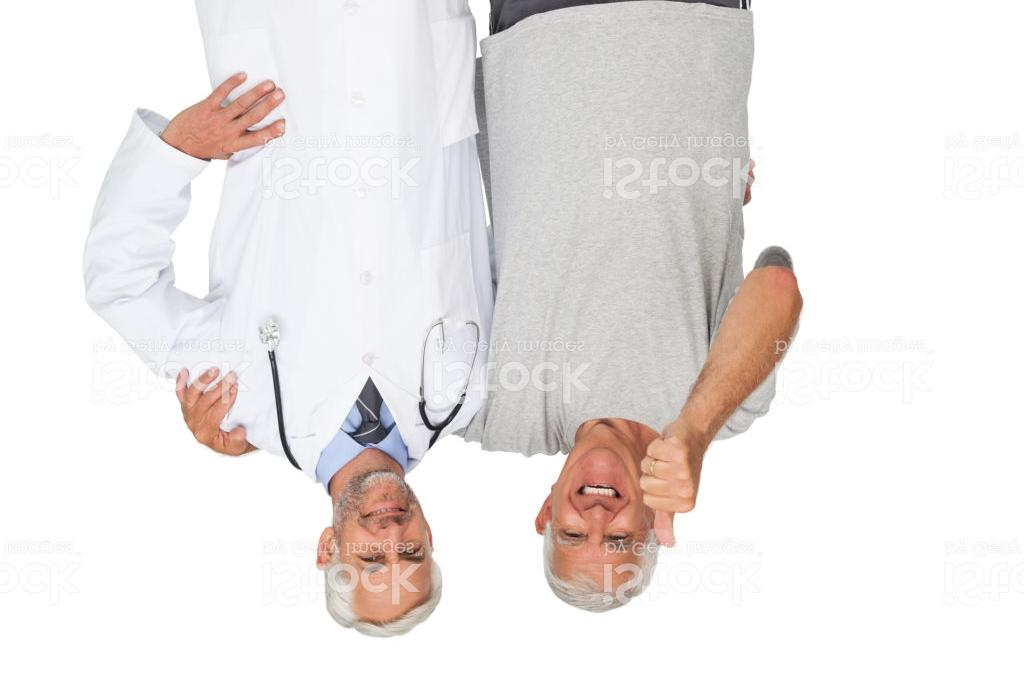thumbsdown: (638, 431, 698, 549)
